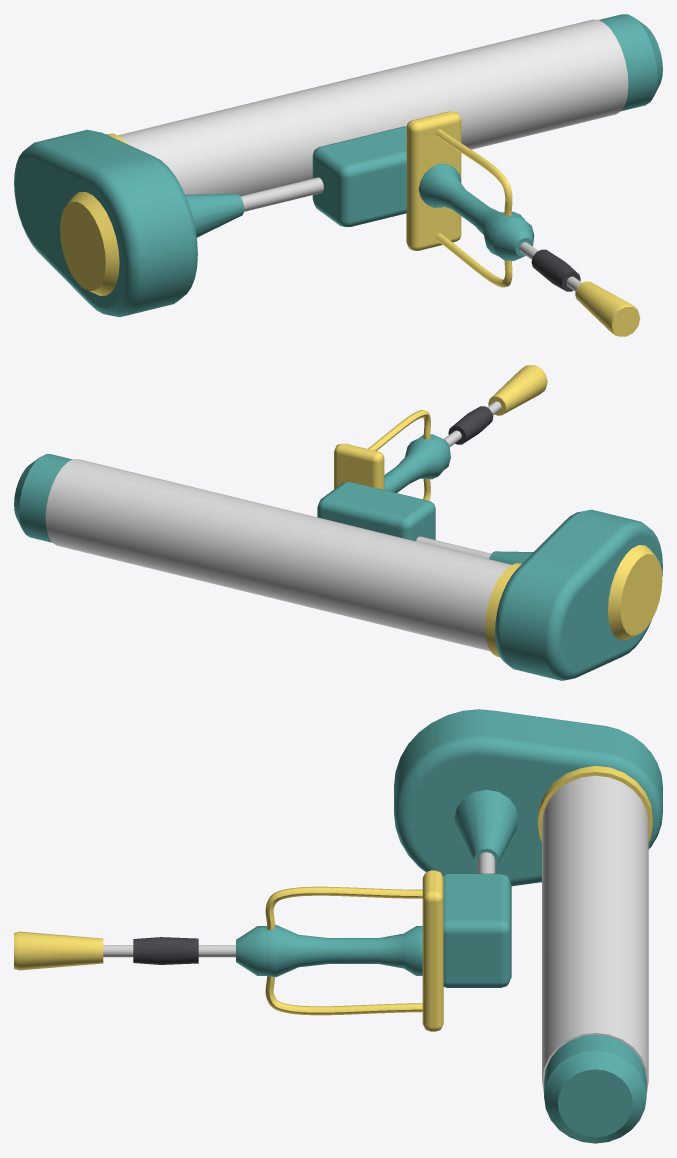
The model's file is W_HeavyRoller.fbx.
3 renders of one model, top to bottom at view 1: azimuth 30°, elevation 25°; view 2: azimuth 150°, elevation 25°; view 3: azimuth 270°, elevation 25°, orthographic. The views are drawn at different scales.
Visible parts, largest first — view 1: HeavyRoller_Drum, HeavyRoller_Frame, HeavyRoller_Body; view 2: HeavyRoller_Drum, HeavyRoller_Frame, HeavyRoller_Body; view 3: HeavyRoller_Drum, HeavyRoller_Frame, HeavyRoller_Body.
Part boxes in pixels (box(x1,y1,x2,y2)): HeavyRoller_Drum: box(106, 14, 662, 196); HeavyRoller_Frame: box(14, 129, 323, 317); HeavyRoller_Body: box(312, 111, 640, 336); HeavyRoller_Drum: box(14, 454, 521, 657); HeavyRoller_Frame: box(416, 509, 662, 680); HeavyRoller_Body: box(317, 365, 547, 541); HeavyRoller_Drum: box(537, 766, 652, 1143); HeavyRoller_Frame: box(394, 709, 662, 886); HeavyRoller_Body: box(14, 870, 511, 1031).
Size of the model in its own units: 3.1 by 0.68 by 2.59.
